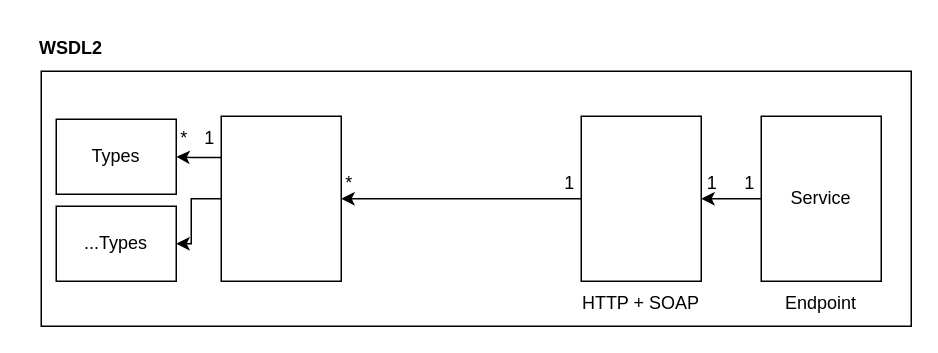
The diagram is 938 pixels wide and 353 high, and some of its shapes have lost their labels. Here are the shapes that lost their labels. From the top down, the centre of each, then its label:
At [280,198]: "Interface".
At [640,198]: "Binding".
